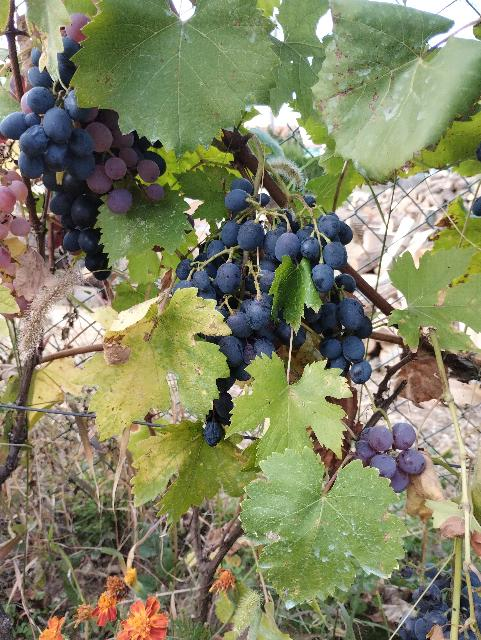grapes: (174, 178, 371, 446), (355, 422, 426, 492)
